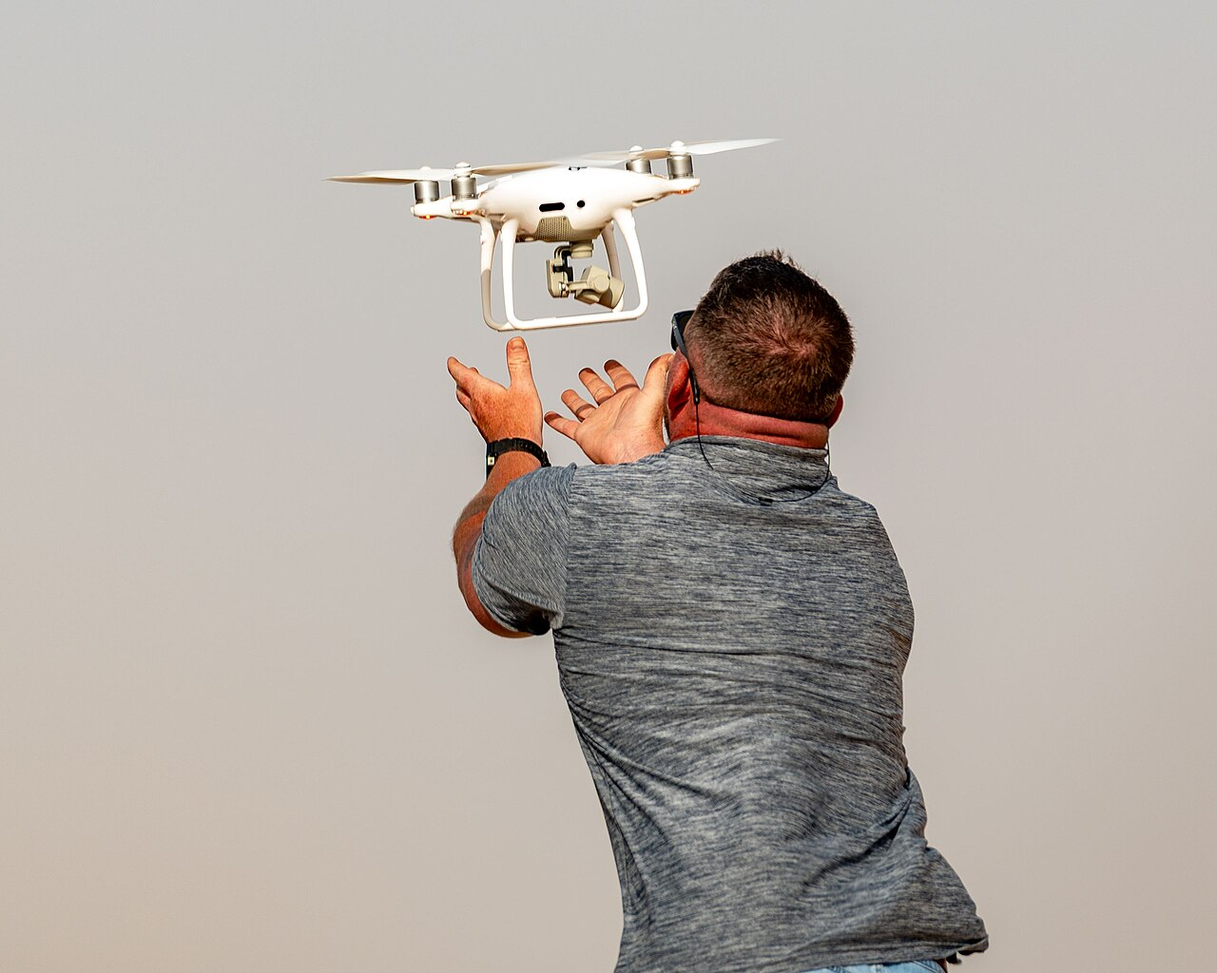drone: (324, 134, 783, 333)
